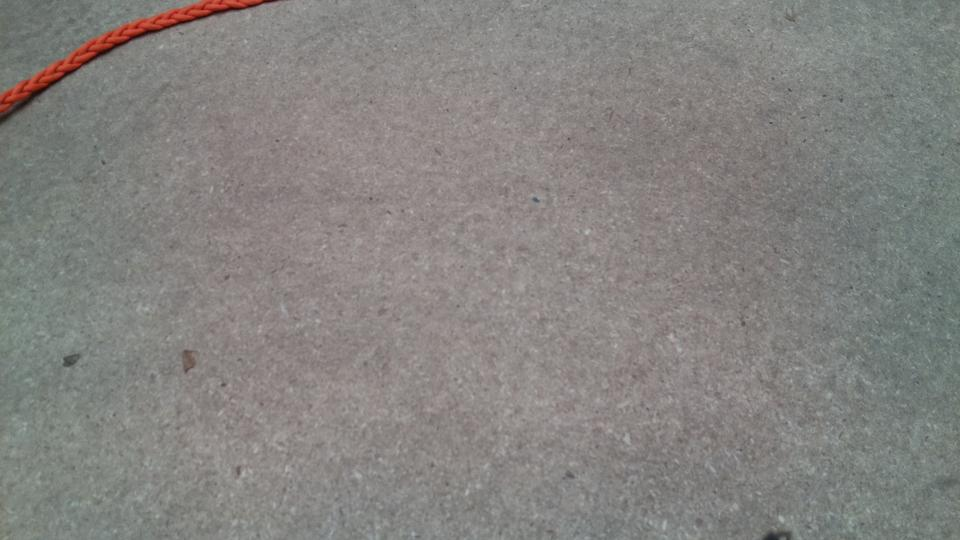rope: (1, 1, 242, 113)
